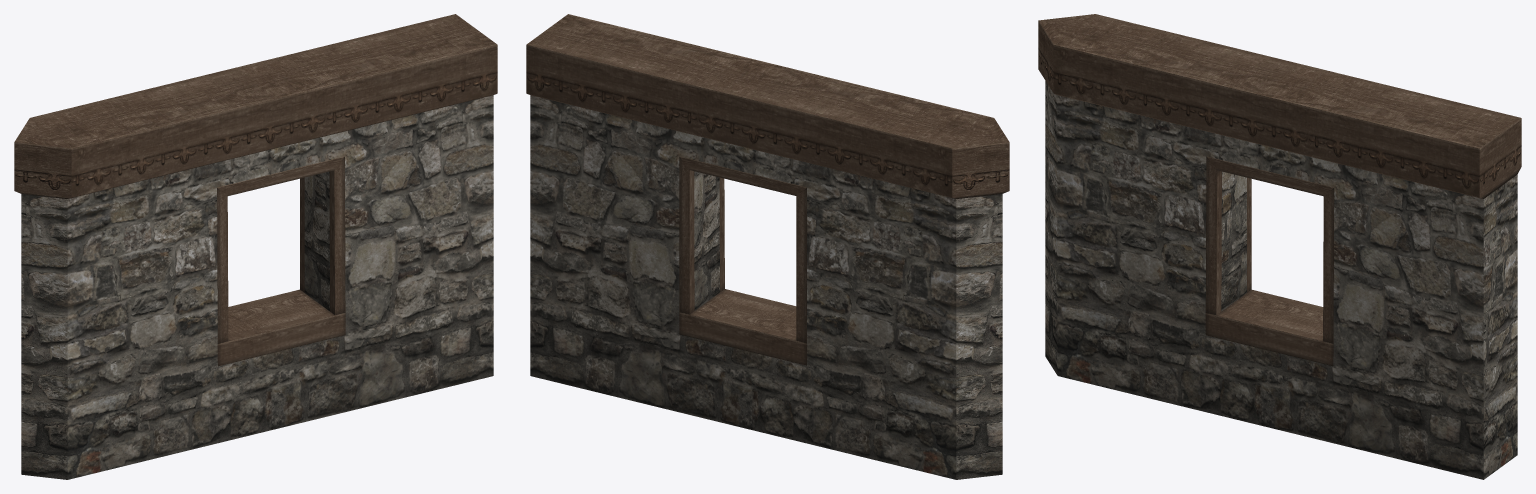
The model's file is House_Stone_Wall_Window_Upper.dae.
3 renders of one model, left to right at view 1: azimuth 30°, elevation 25°; view 2: azimuth 150°, elevation 25°; view 3: azimuth 330°, elevation 25°, orthographic.
Parts seen in each view (by area): view 1: WindowUpper; view 2: WindowUpper; view 3: WindowUpper.
Boxes of the visible parts, x1,y1,x2,y2 form: WindowUpper: [14, 14, 497, 479]; WindowUpper: [526, 14, 1009, 479]; WindowUpper: [1038, 14, 1521, 479].
Size of the model in its own units: 4.34 by 3.06 by 0.68.
Materials: 1 (1 with a texture image).
